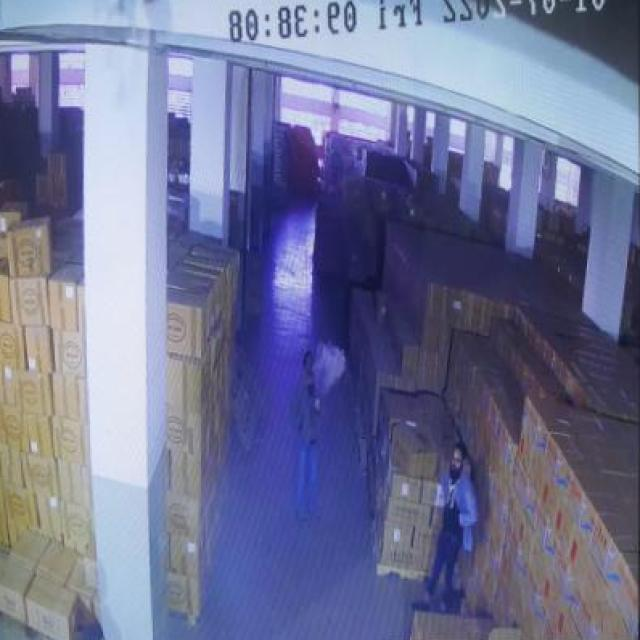fire: (314, 338, 352, 400)
